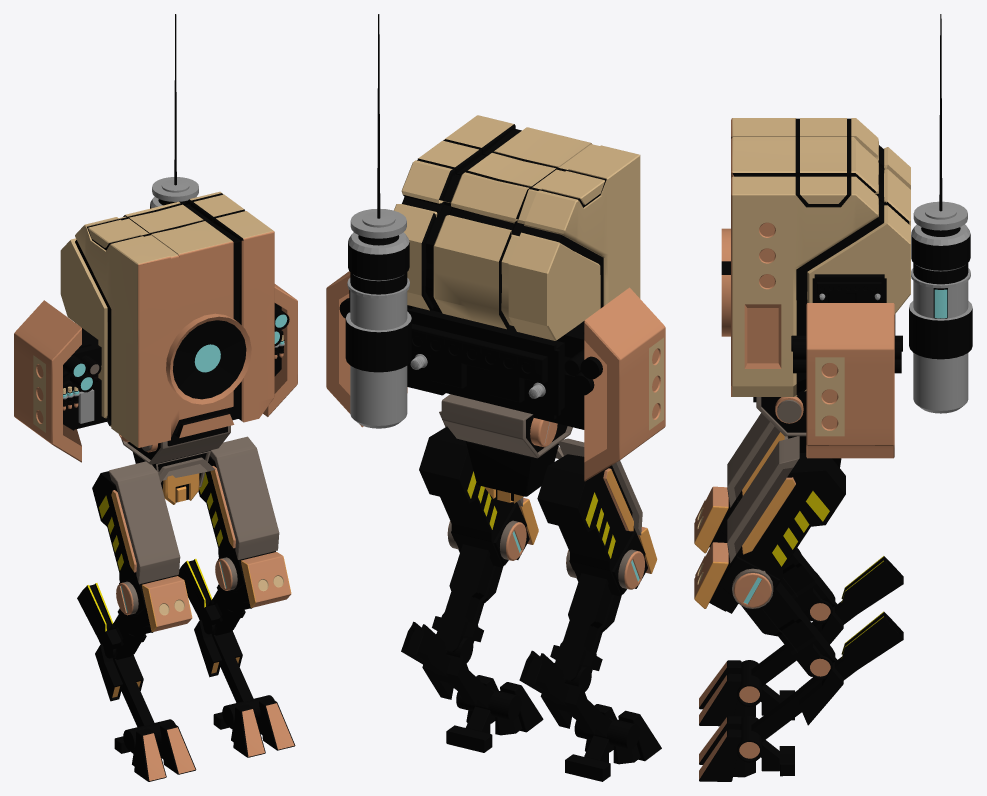
The model's file is orange_titan.fbx.
3 renders of one model, left to right at view 1: azimuth 30°, elevation 25°; view 2: azimuth 150°, elevation 25°; view 3: azimuth 270°, elevation 25°, orthographic. The views are drawn at different scales.
Visible parts, largest first — view 1: body, R_gun, R_thigh, L_thigh, L_feet, R_feet, L_leg, R_leg, L_gun, R_knee, L_knee, bottom (+1 smaller); view 2: body, R_gun, R_thigh, L_thigh, R_leg, L_leg, hip, L_feet, R_feet, bottom, L_gun, L_knee (+1 smaller); view 3: body, L_gun, L_thigh, L_leg, R_thigh, L_feet, L_knee, R_knee, R_feet, R_leg, hip.
Part boxes in pixels (box(x1,y1,x2,y2)): body: box(60, 14, 274, 447); R_gun: box(14, 300, 106, 462); R_thigh: box(92, 461, 192, 631); L_thigh: box(198, 436, 291, 607); L_feet: box(213, 695, 295, 757); R_feet: box(114, 719, 196, 781); L_leg: box(194, 557, 251, 677); R_leg: box(95, 581, 153, 701); L_gun: box(263, 284, 297, 416); R_knee: box(77, 583, 154, 726); L_knee: box(177, 558, 253, 702); bottom: box(133, 450, 215, 504); body: box(345, 14, 640, 428); R_gun: box(533, 287, 665, 481); R_thigh: box(537, 438, 657, 596); L_thigh: box(419, 411, 538, 567); R_leg: box(540, 549, 644, 734); L_leg: box(422, 520, 526, 705); hip: box(441, 394, 572, 458); L_feet: box(446, 675, 543, 752); R_feet: box(565, 704, 661, 781); bottom: box(466, 441, 563, 503); L_gun: box(326, 271, 445, 427); L_knee: box(401, 621, 493, 707); body: box(721, 14, 972, 413); L_gun: box(791, 303, 902, 458); L_thigh: box(694, 436, 845, 613); L_leg: box(732, 568, 843, 725); R_thigh: box(694, 413, 784, 553); L_feet: box(699, 715, 794, 781); L_knee: box(751, 611, 903, 741); R_knee: box(751, 556, 903, 686); R_feet: box(699, 660, 794, 726); R_leg: box(780, 548, 843, 644); hip: box(753, 391, 806, 436).
Size of the model in its own units: 5.47 by 13.75 by 4.57.
